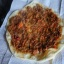pizza: (6, 5, 62, 57)
